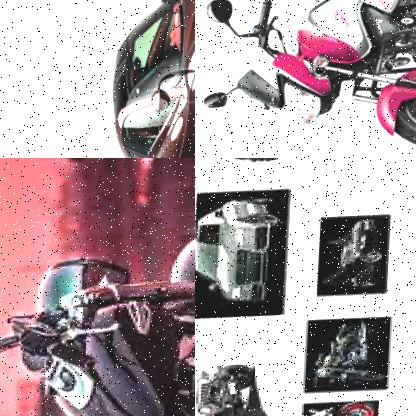bike: (0, 207, 195, 416), (195, 0, 416, 158), (312, 324, 385, 401)
car: (99, 0, 195, 158), (195, 196, 277, 317), (325, 221, 386, 305), (195, 360, 265, 416)
